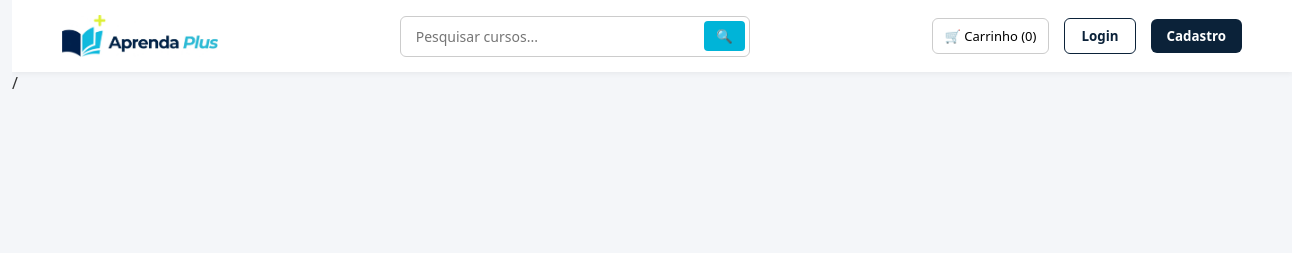
Test: Header: busca com sugestões › ao clicar na busca, mostra os cursos como sugestão
Focus the field with placeholder "Pesquisar cursos..." at (575, 36), box 400,16 -> 750,56
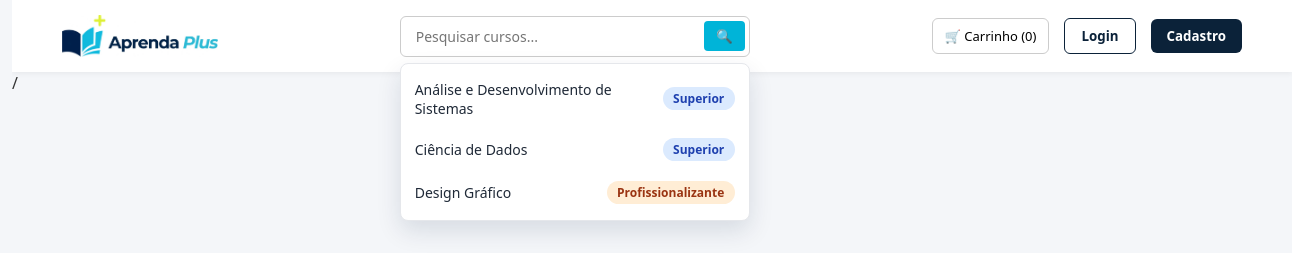
expect the number of options is 3: met, box 401,70 -> 749,128; 415,138 -> 735,161; 415,181 -> 735,204
